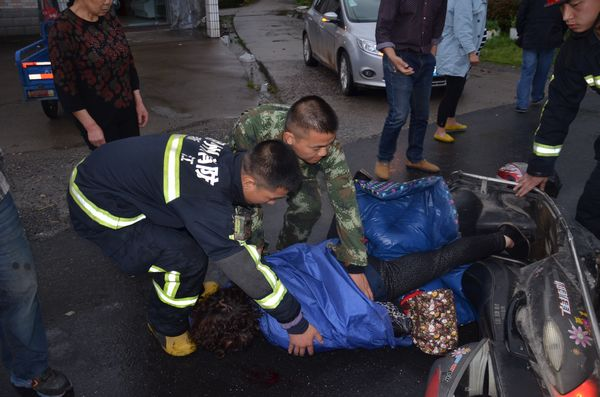fall: (198, 206, 531, 364)
